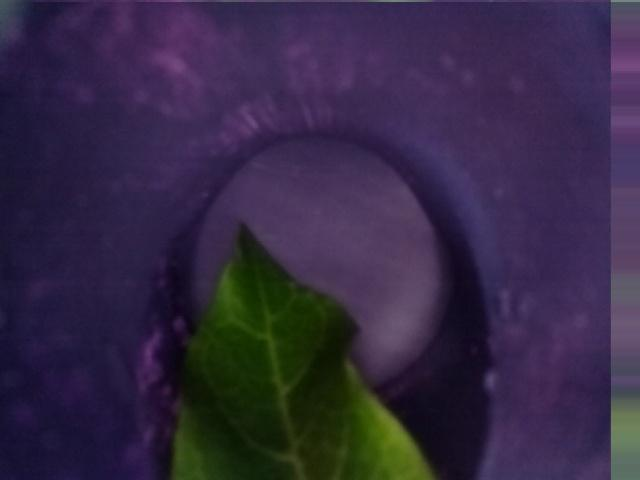feuille: (149, 202, 447, 479)
